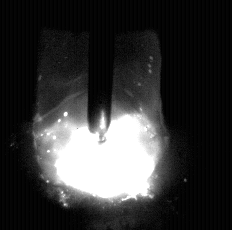arame: (88, 0, 112, 143)
poca: (33, 0, 169, 230)
